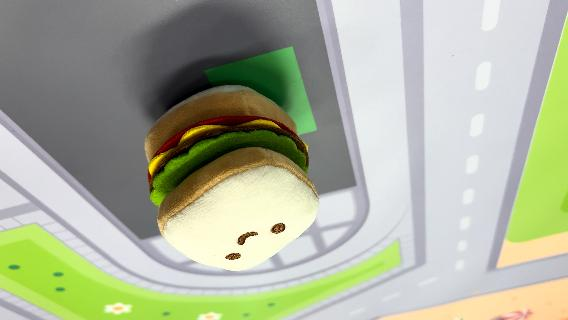sandwich: (142, 82, 322, 272)
